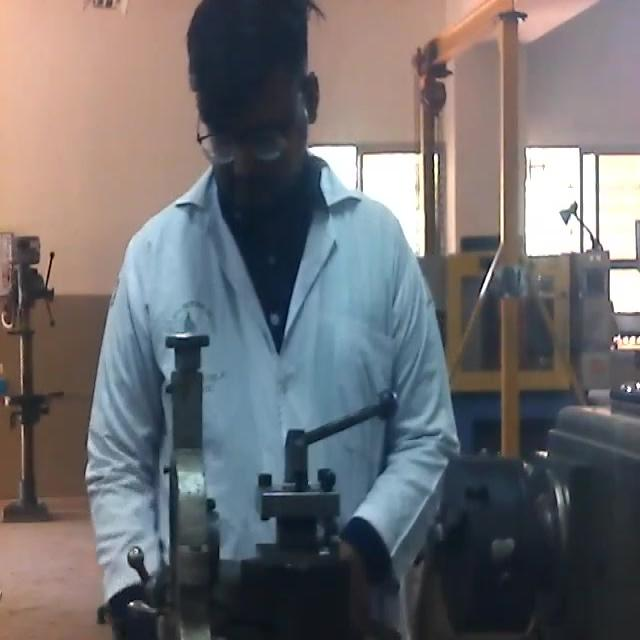labcoat: (86, 148, 461, 640)
